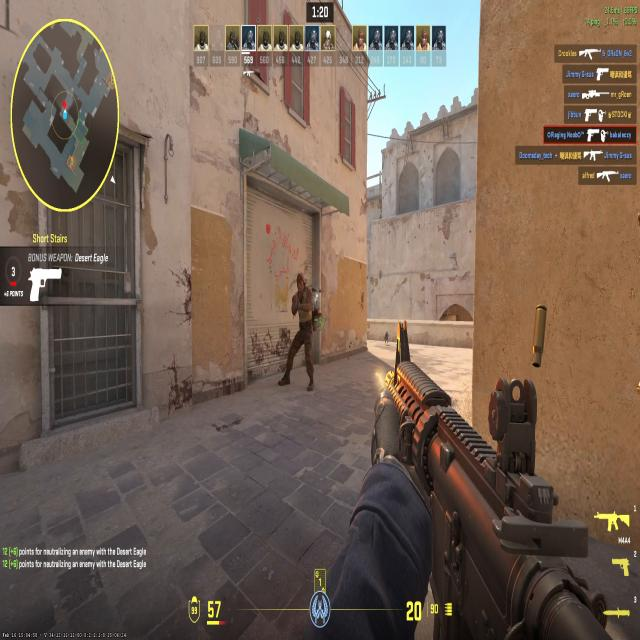player: (278, 265, 324, 407)
